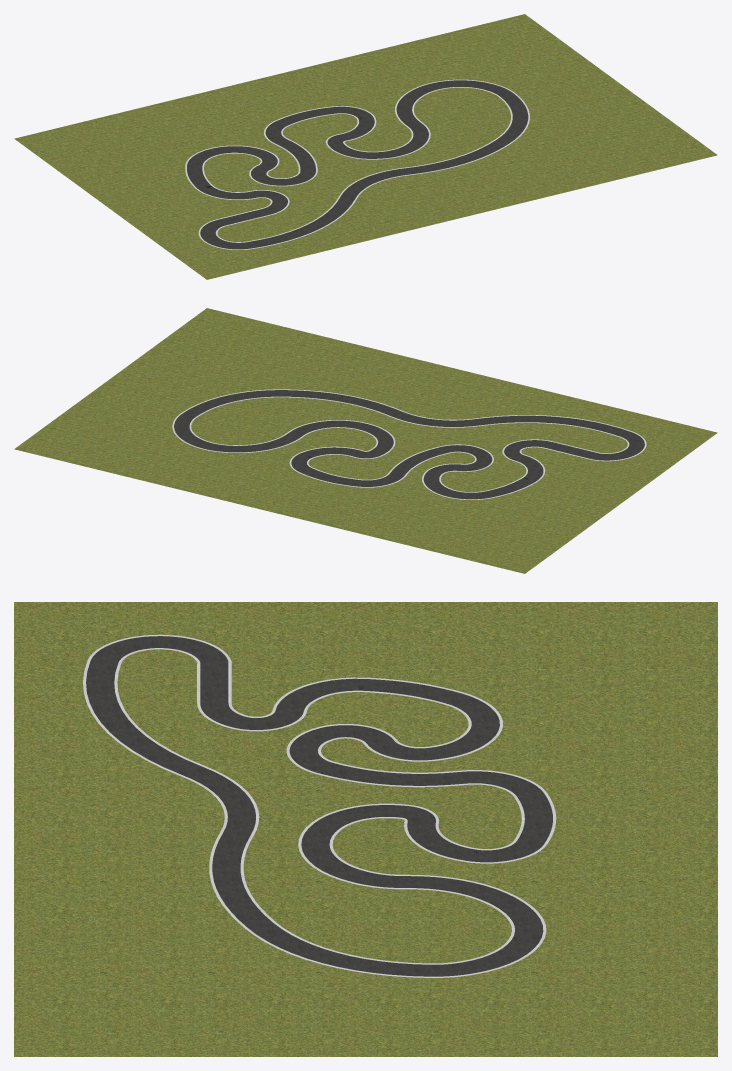
File: track2.dae
3 renders of one model, top to bottom at view 1: azimuth 30°, elevation 25°; view 2: azimuth 150°, elevation 25°; view 3: azimuth 270°, elevation 25°, orthographic. The views are drawn at different scales.
Parts seen in each view (by area): view 1: field, road, outerroad, innerroad; view 2: field, road, outerroad, innerroad; view 3: field, road, outerroad, innerroad.
Boxes of the visible parts, <box> form: field: <box>14,14,717,279</box>; road: <box>187,80,528,249</box>; outerroad: <box>185,79,529,249</box>; innerroad: <box>202,87,512,242</box>; field: <box>14,308,717,573</box>; road: <box>174,390,644,499</box>; outerroad: <box>172,389,646,499</box>; innerroad: <box>189,396,629,492</box>; field: <box>14,602,717,1056</box>; road: <box>86,636,552,976</box>; outerroad: <box>83,634,556,977</box>; innerroad: <box>114,648,524,964</box>.
Size of the model in its own units: 62.36 by 40.8 by 0.01.
Materials: 3 (3 with a texture image).
